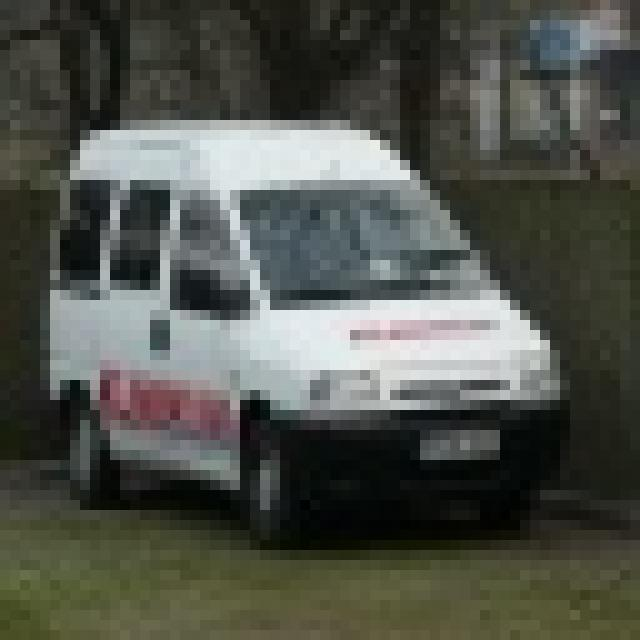Ambulance: (40, 110, 560, 540)
